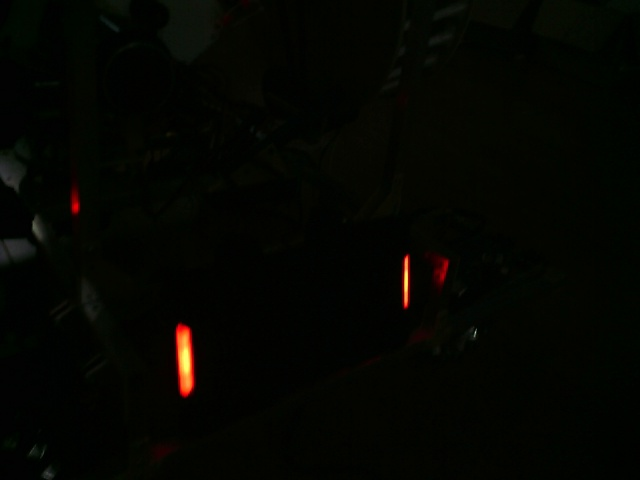lamp: (170, 321, 199, 401), (399, 253, 412, 310)
